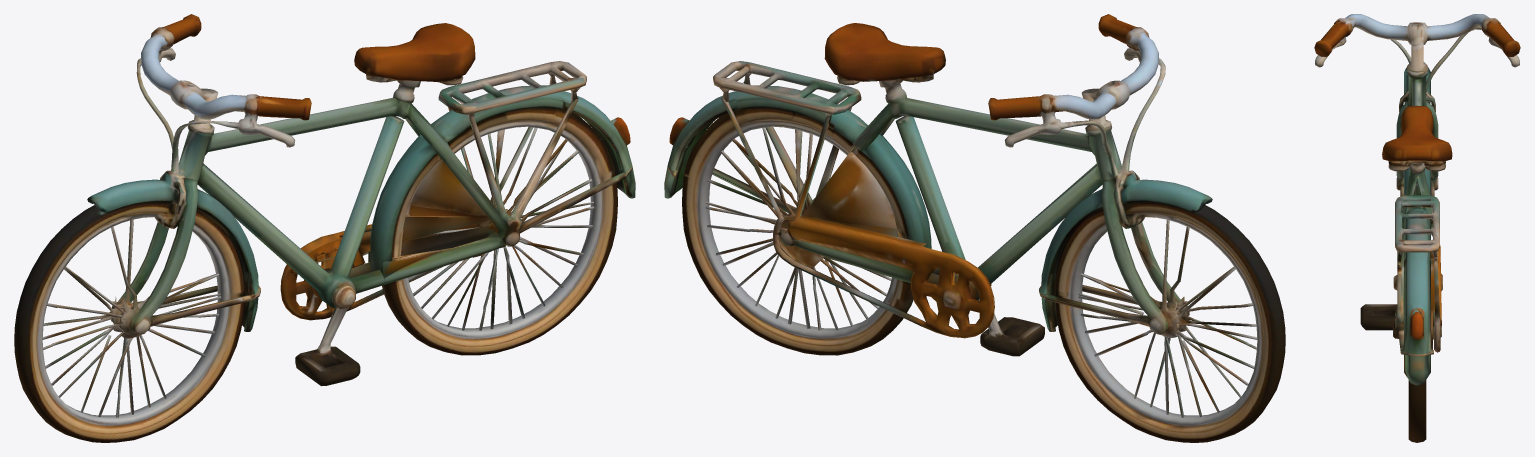
The model's file is a_retro_bicycle_b33e429c_v1.glb.
3 renders of one model, left to right at view 1: azimuth 30°, elevation 25°; view 2: azimuth 150°, elevation 25°; view 3: azimuth 270°, elevation 25°, orthographic. The views are drawn at different scales.
Parts seen in each view (by area): view 1: material; view 2: material; view 3: material.
Boxes of the visible parts, <box> form: material: <box>14,14,635,442</box>; material: <box>664,14,1285,442</box>; material: <box>1314,14,1520,442</box>.
Bounding box in the file's own units: 1.9 × 1.06 × 0.6697.
Materials: 1 (1 with a texture image).
